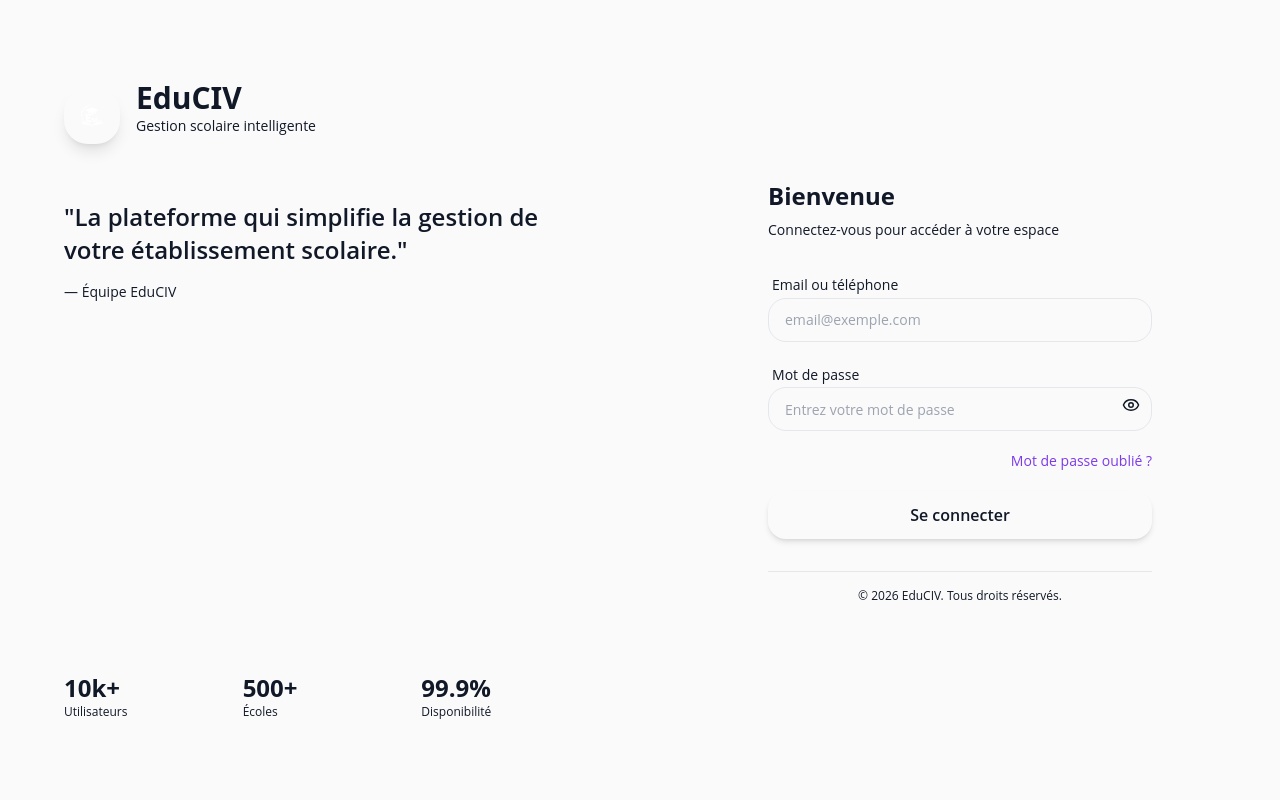
LoginPage › shows error message on login failure
Type "wrong@test.com" into the field with placeholder "email@exemple.com". click: (960, 320)
box: [768, 298, 1152, 342]
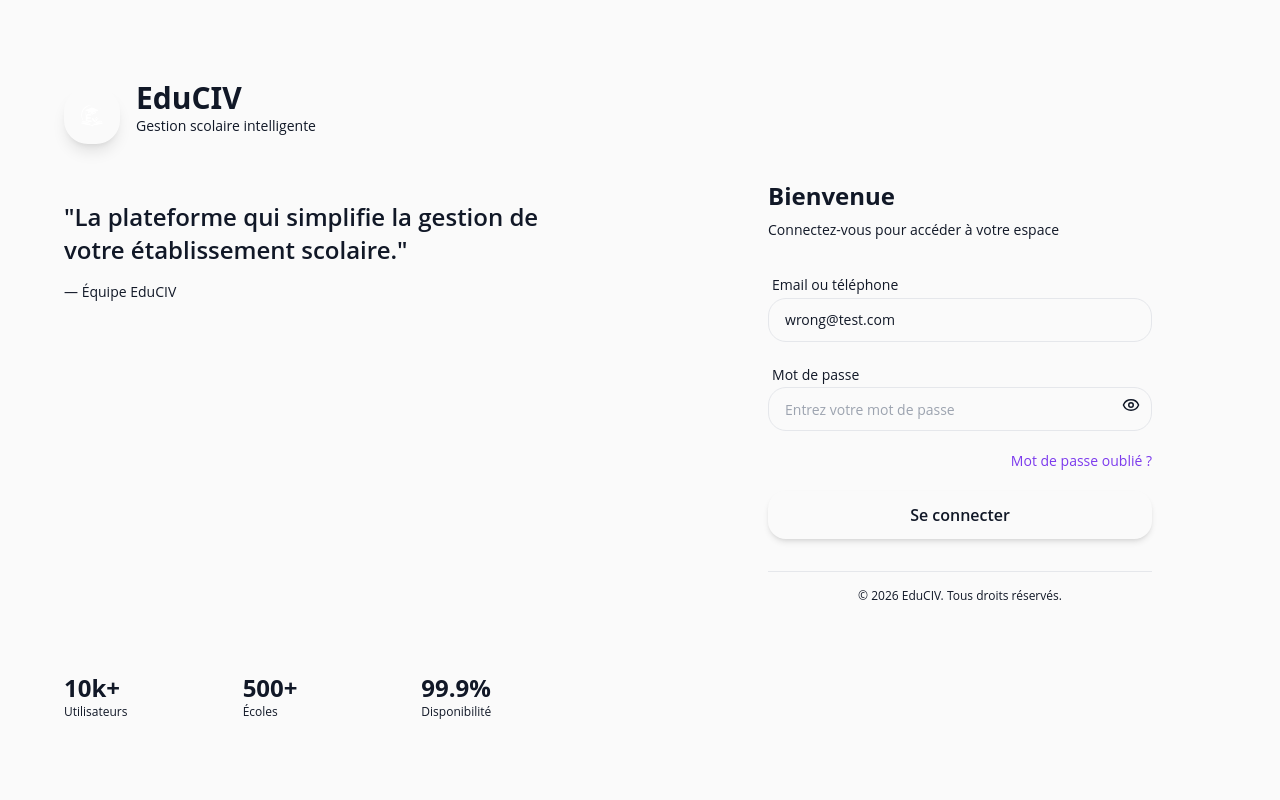
Type "wrongpass" into the password field with placeholder "Entrez votre mot de passe". click: (960, 409)
box: [768, 387, 1152, 431]
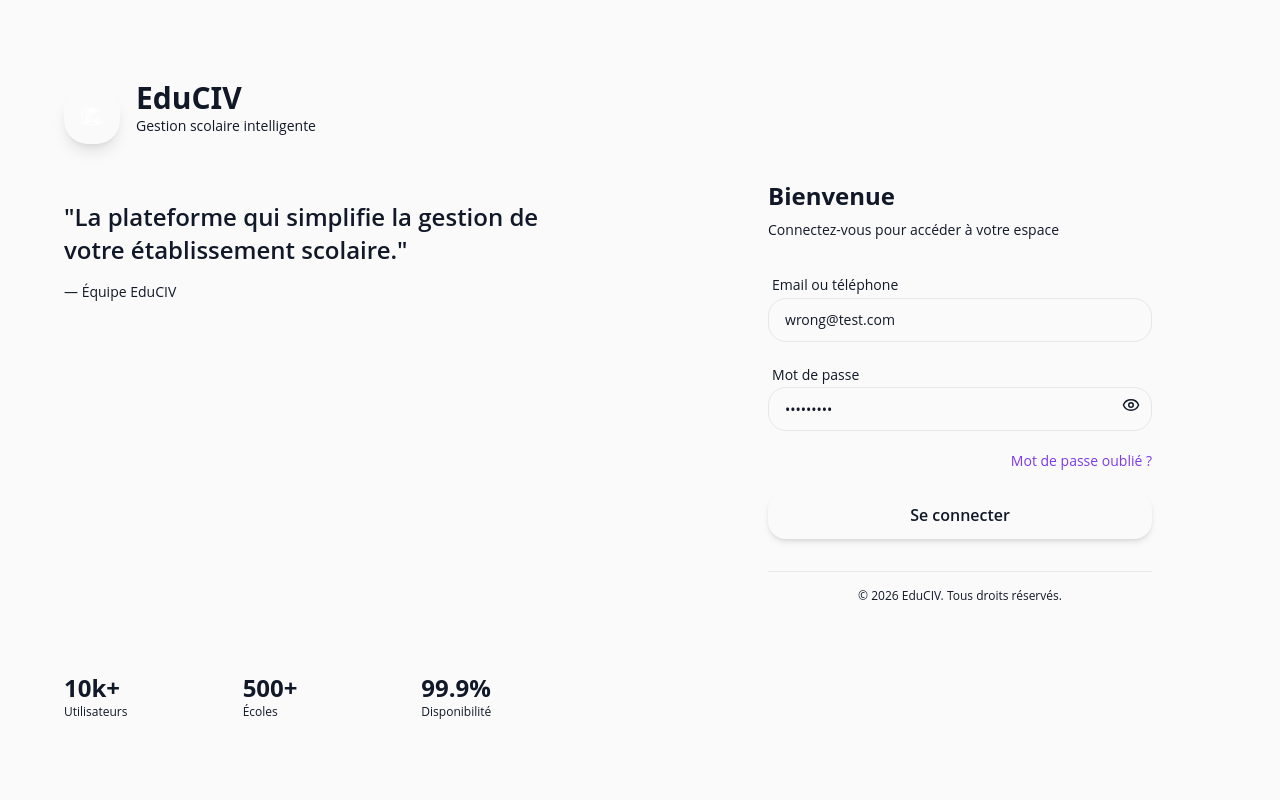
Click the button "Se connecter". click: click(960, 515)
box: [768, 491, 1152, 539]
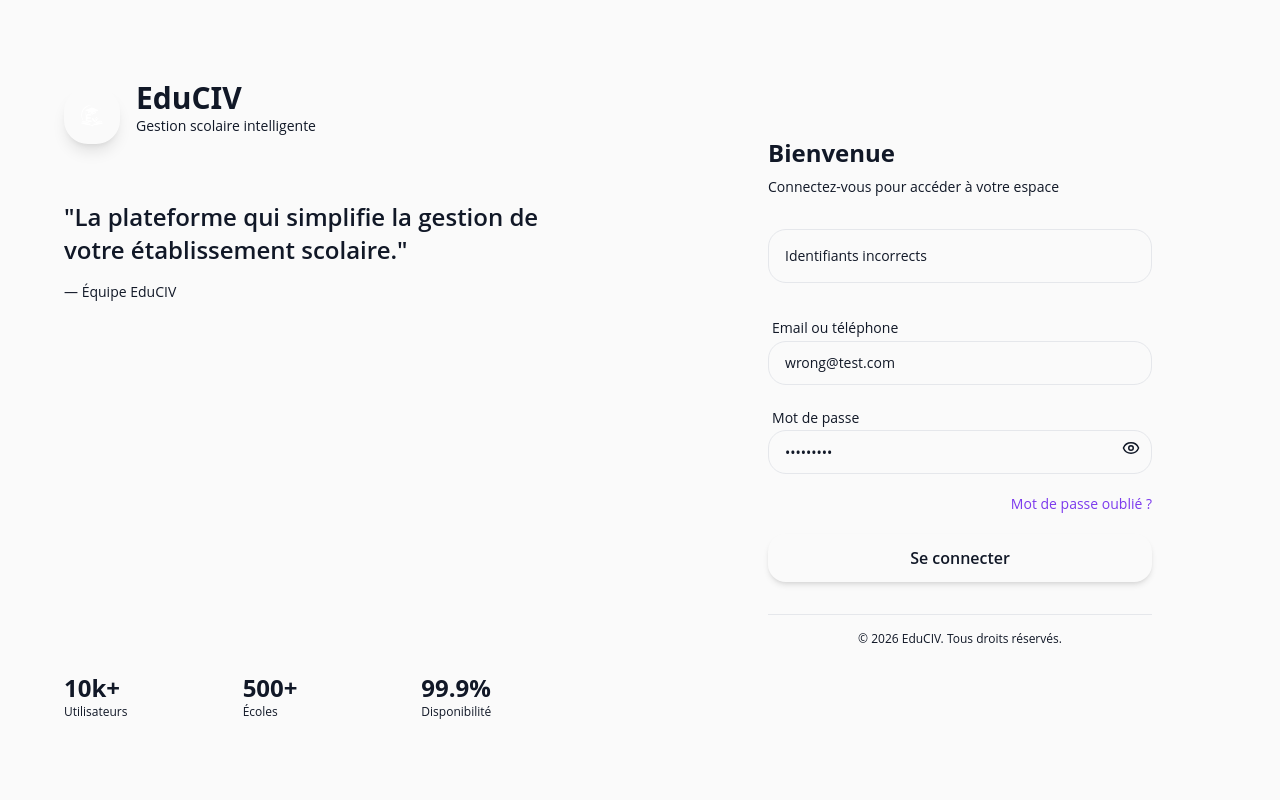
Check: the text "Identifiants incorrects" is shown, box [768, 229, 1152, 283]
